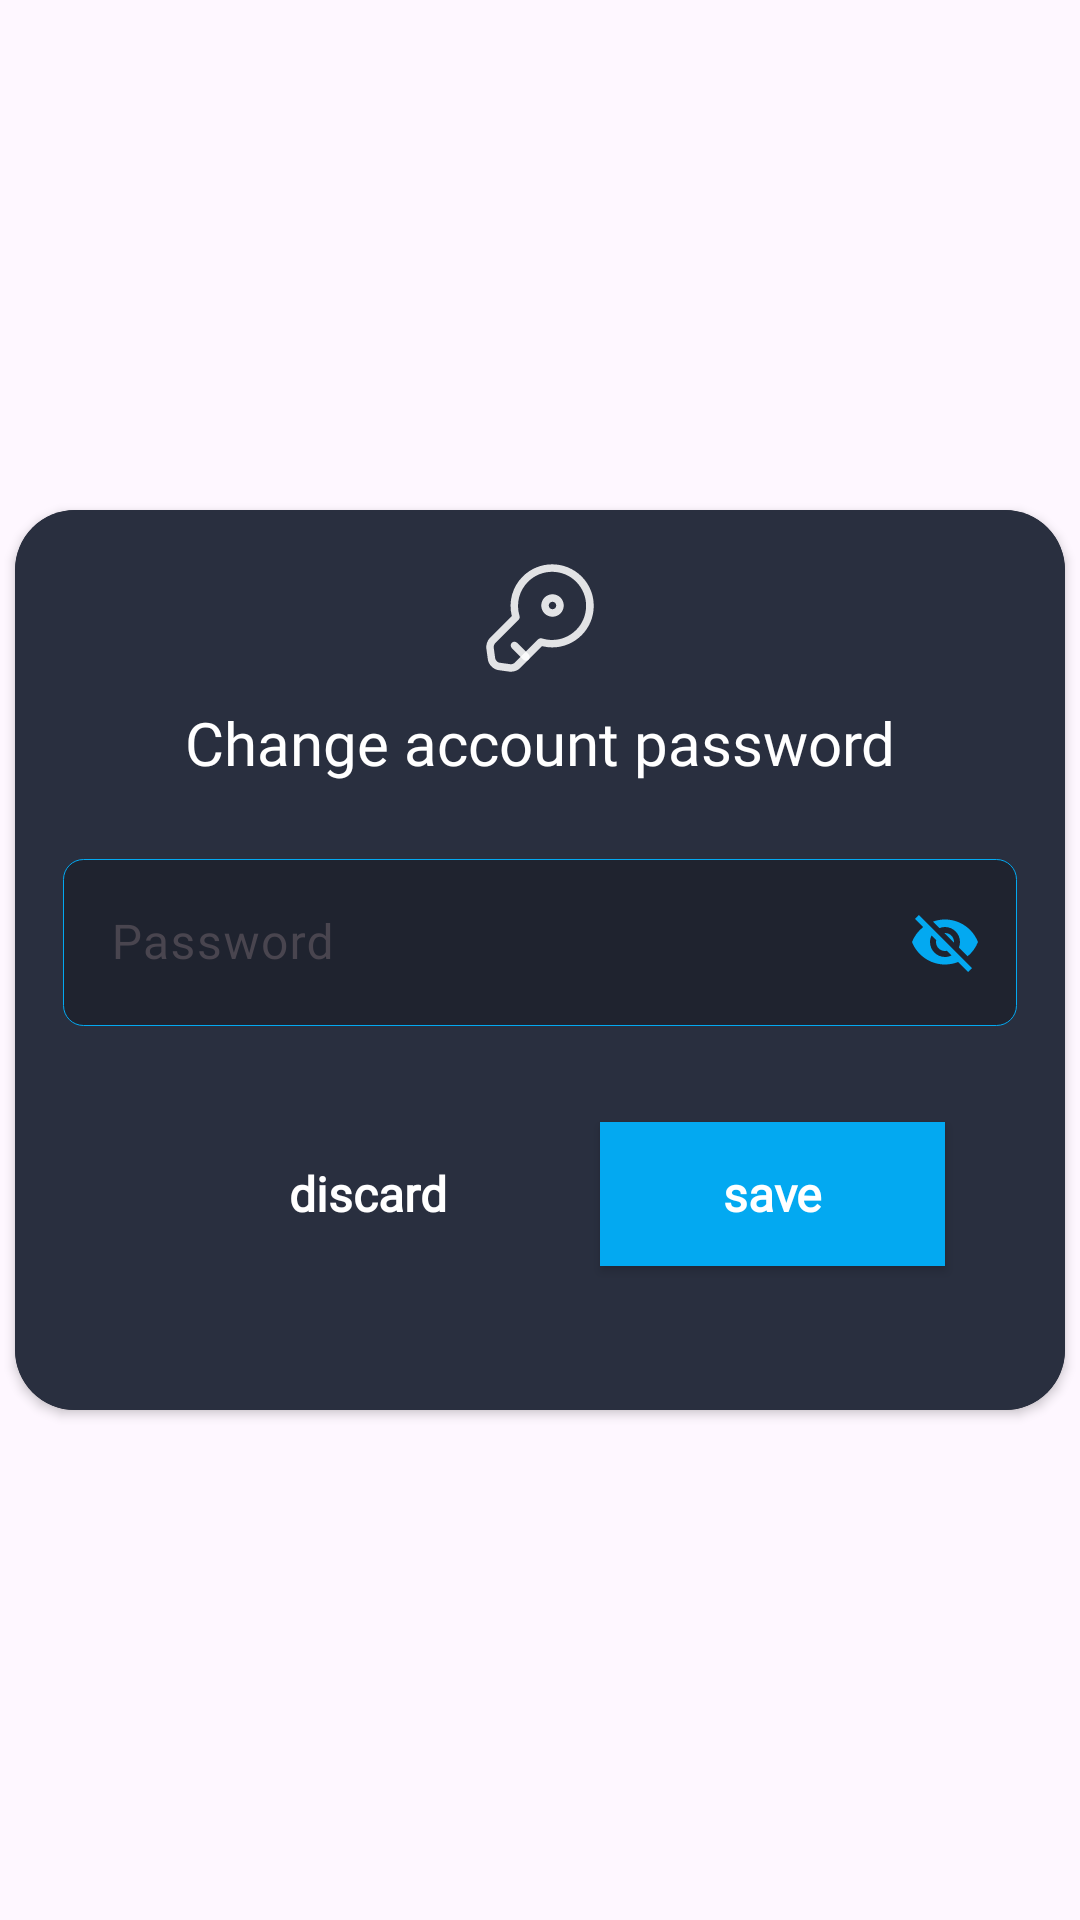

Screen size 1080 x 1920. Icon name, then its box in pixels as (x1, y1, x2, y2):
user change password: (486, 564, 594, 672)
